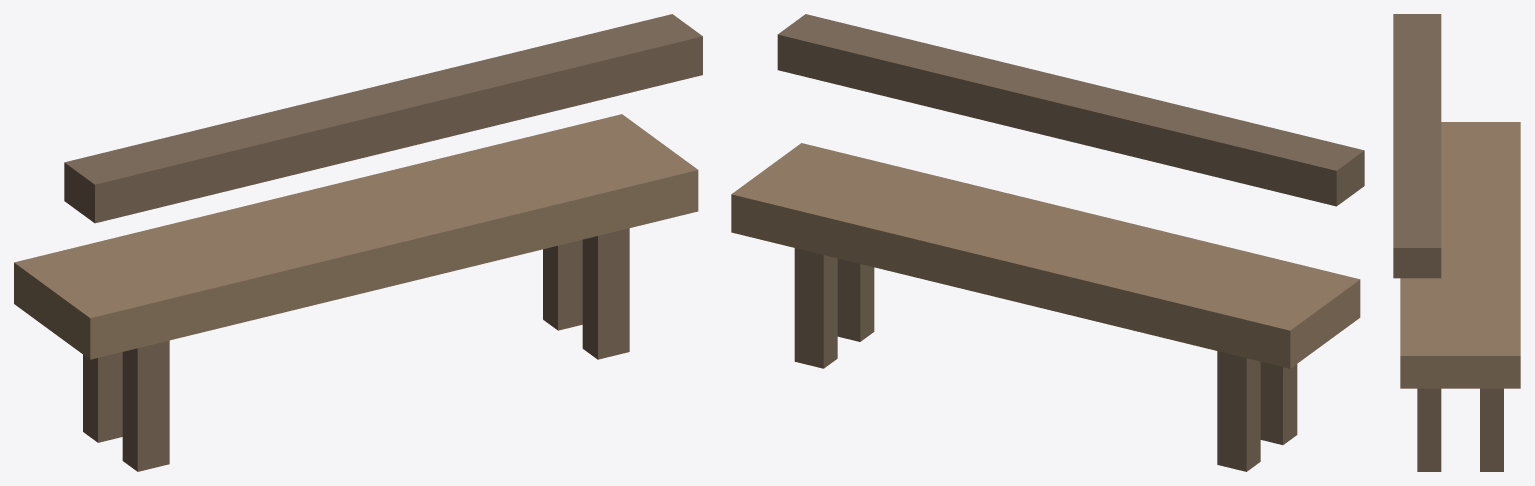
The model's file is holzbank_3d.glb.
The picture shows the model from 3 angles, left to right: view 1: azimuth 30°, elevation 25°; view 2: azimuth 150°, elevation 25°; view 3: azimuth 270°, elevation 25°; orthographic projection. The views are drawn at different scales.
Parts seen in each view (by area): view 1: piece_001, piece_002, piece_004, piece_006, piece_003, piece_005; view 2: piece_001, piece_002, piece_003, piece_005, piece_004, piece_006; view 3: piece_001, piece_002, piece_006, piece_005.
Boxes of the visible parts, left/top/right/bottom form: piece_001: left=14, top=114, right=698, bottom=359; piece_002: left=64, top=14, right=702, bottom=223; piece_004: left=122, top=340, right=169, bottom=471; piece_006: left=582, top=228, right=629, bottom=359; piece_003: left=83, top=352, right=122, bottom=442; piece_005: left=543, top=239, right=582, bottom=330; piece_001: left=731, top=143, right=1360, bottom=368; piece_002: left=777, top=14, right=1364, bottom=206; piece_003: left=1217, top=351, right=1260, bottom=471; piece_005: left=794, top=248, right=837, bottom=368; piece_004: left=1260, top=362, right=1297, bottom=444; piece_006: left=837, top=258, right=874, bottom=341; piece_001: left=1400, top=122, right=1520, bottom=388; piece_002: left=1393, top=14, right=1441, bottom=278; piece_006: left=1417, top=388, right=1441, bottom=471; piece_005: left=1480, top=388, right=1503, bottom=471.
Size of the model in its own units: 2.3 by 1.13 by 0.53.
